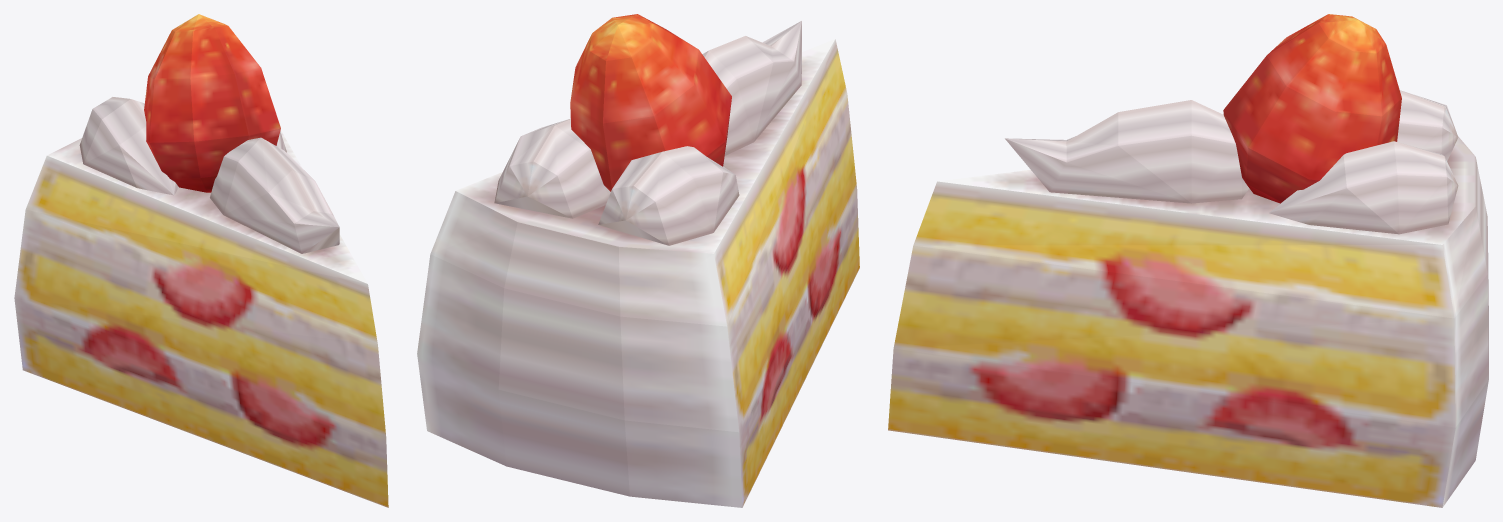
Rendered from cake.gltf.
3 renders of one model, left to right at view 1: azimuth 30°, elevation 25°; view 2: azimuth 150°, elevation 25°; view 3: azimuth 270°, elevation 25°, orthographic. The views are drawn at different scales.
Visible parts, largest first — view 1: Material2; view 2: Material2; view 3: Material2.
Boxes of the visible parts, <box> form: Material2: <box>14,14,388,507</box>; Material2: <box>417,14,859,507</box>; Material2: <box>888,14,1488,507</box>.
Bounding box in the file's own units: 84.9 × 104 × 136.
Materials: 2 (1 with a texture image).
